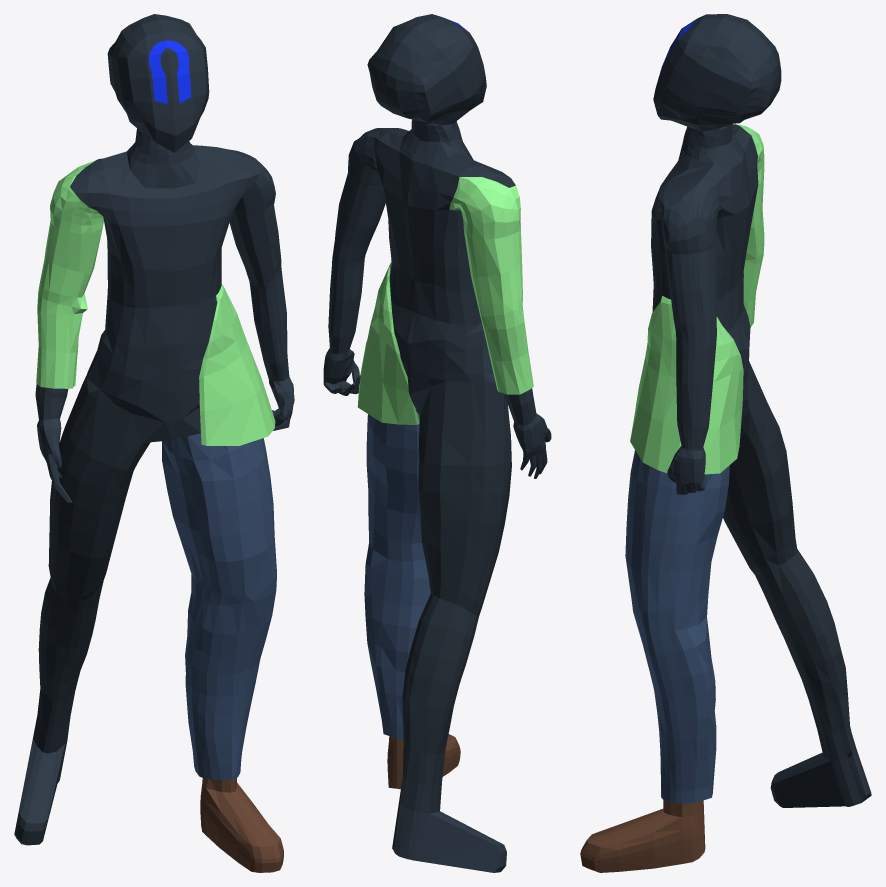
Rendered from Mar_Stun_000009.obj.
The picture shows the model from 3 angles, left to right: view 1: azimuth 30°, elevation 25°; view 2: azimuth 150°, elevation 25°; view 3: azimuth 270°, elevation 25°; orthographic projection. The views are drawn at different scales.
Visible parts, largest first — view 1: Cube.000_Cube.001; view 2: Cube.000_Cube.001; view 3: Cube.000_Cube.001.
Boxes of the visible parts, x1,y1,x2,y2 form: Cube.000_Cube.001: (14, 14, 294, 872); Cube.000_Cube.001: (323, 14, 551, 872); Cube.000_Cube.001: (580, 14, 871, 872).
Bounding box in the file's own units: 1.19 × 3.99 × 1.26.
